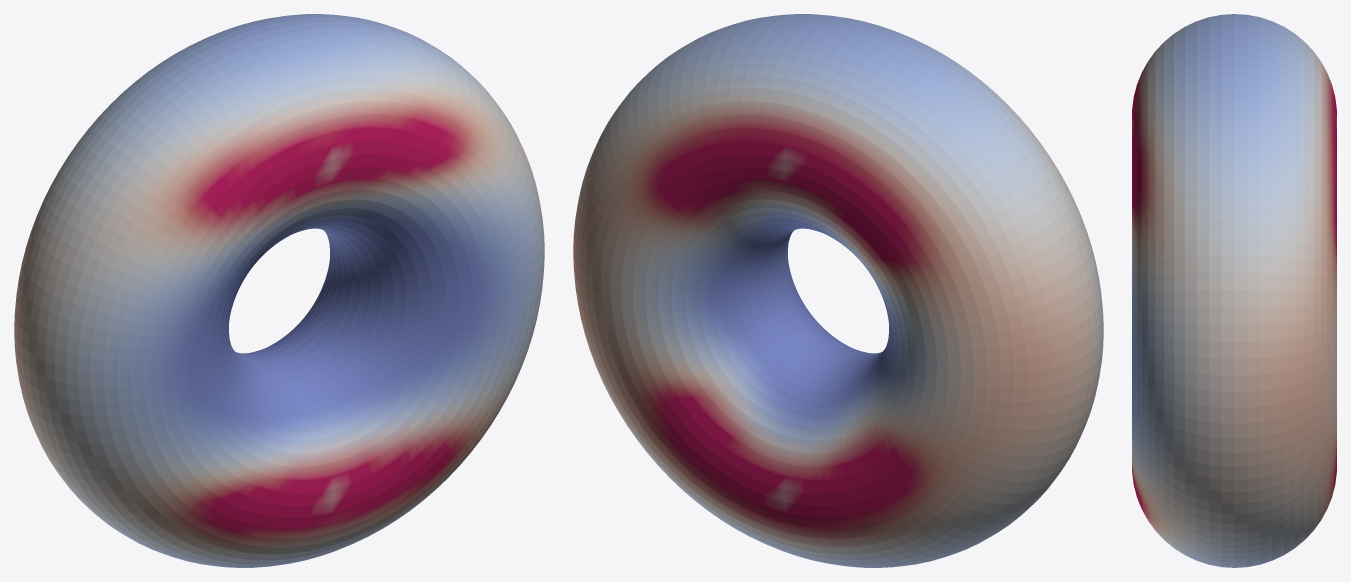
The picture shows the model from 3 angles, left to right: view 1: azimuth 30°, elevation 25°; view 2: azimuth 150°, elevation 25°; view 3: azimuth 270°, elevation 25°; orthographic projection. The views are drawn at different scales.
Parts seen in each view (by area): view 1: world; view 2: world; view 3: world.
Boxes of the visible parts, bbox=[...] form: world: bbox=[14, 14, 544, 567]; world: bbox=[573, 14, 1103, 567]; world: bbox=[1132, 14, 1336, 567].
Bounding box in the file's own units: 19.07 × 19.07 × 7.05.
